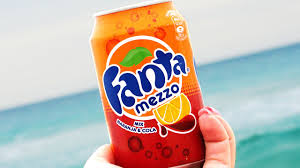fanta: (91, 16, 212, 166)
